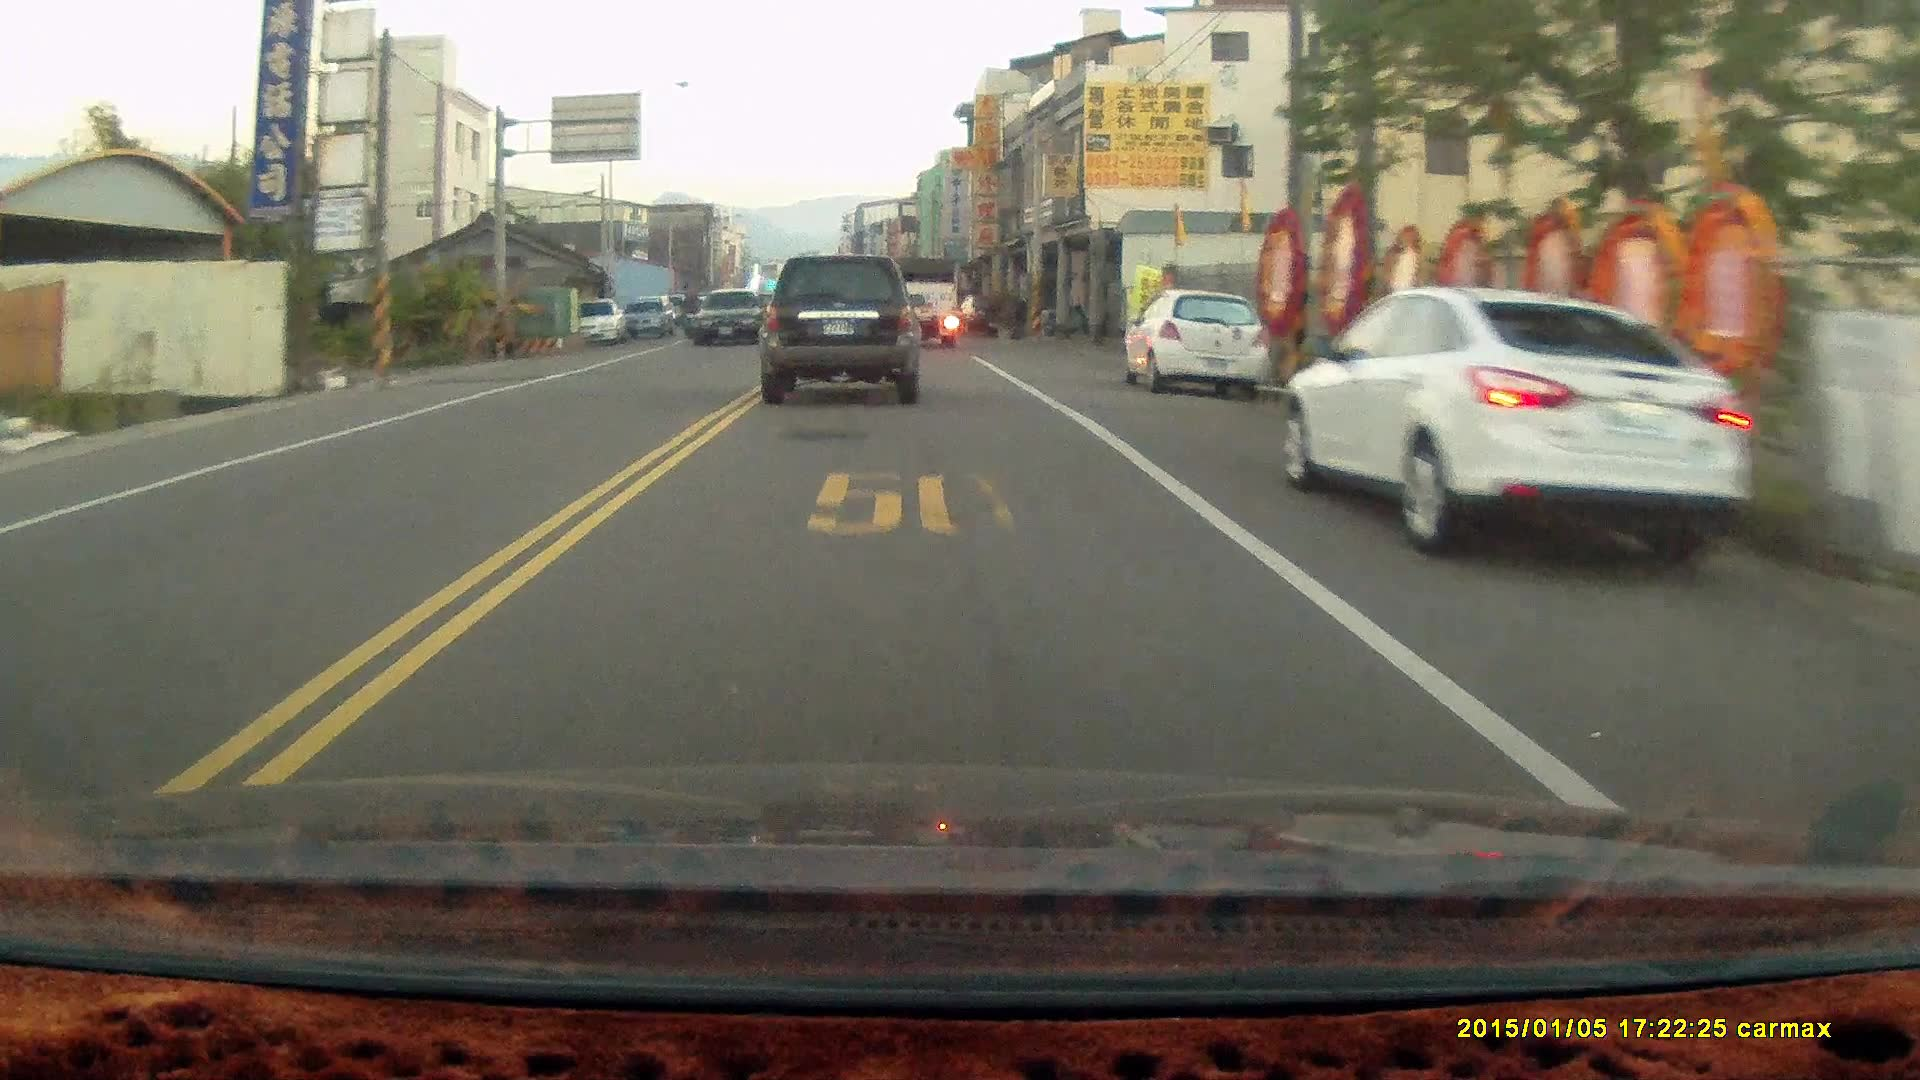vehicle: (1284, 284, 1749, 564), (756, 252, 922, 402), (1121, 289, 1274, 404), (887, 258, 963, 353), (694, 287, 769, 348)
